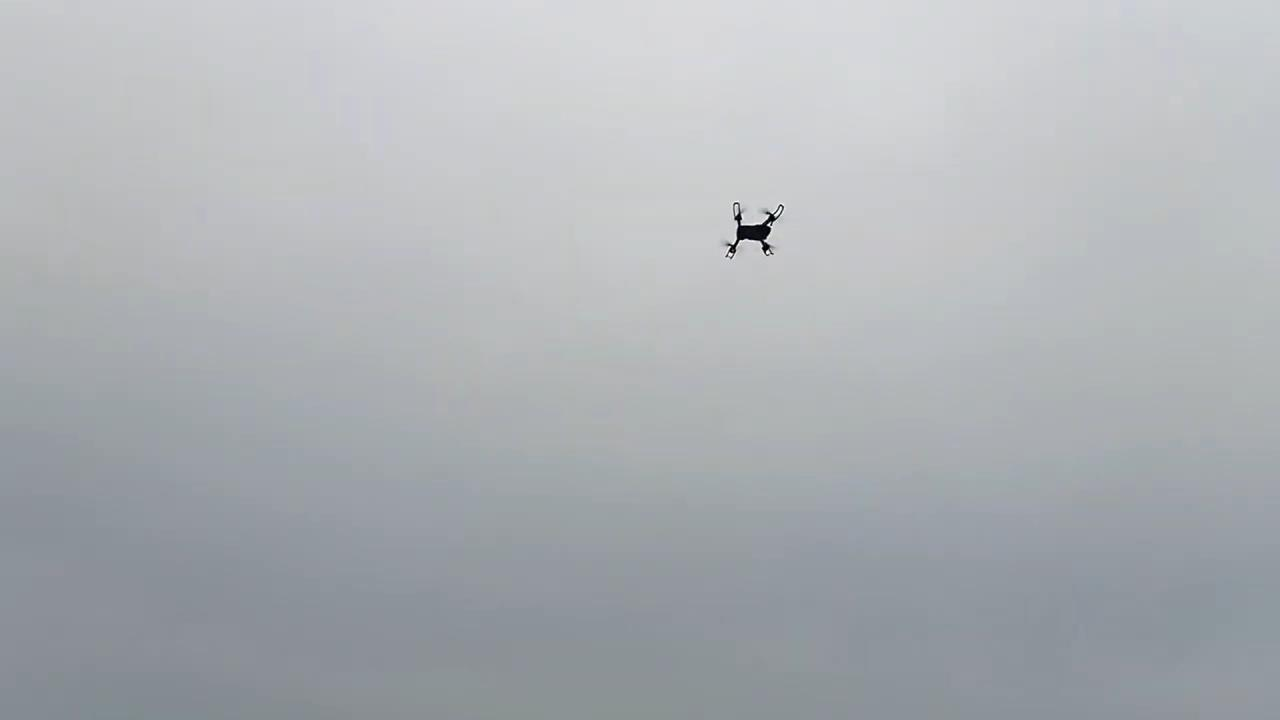Drone: (703, 189, 807, 276)
